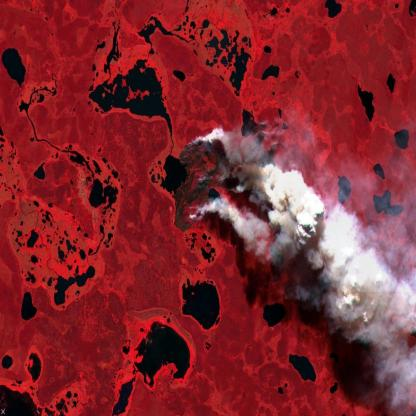fire: (173, 124, 288, 236)
